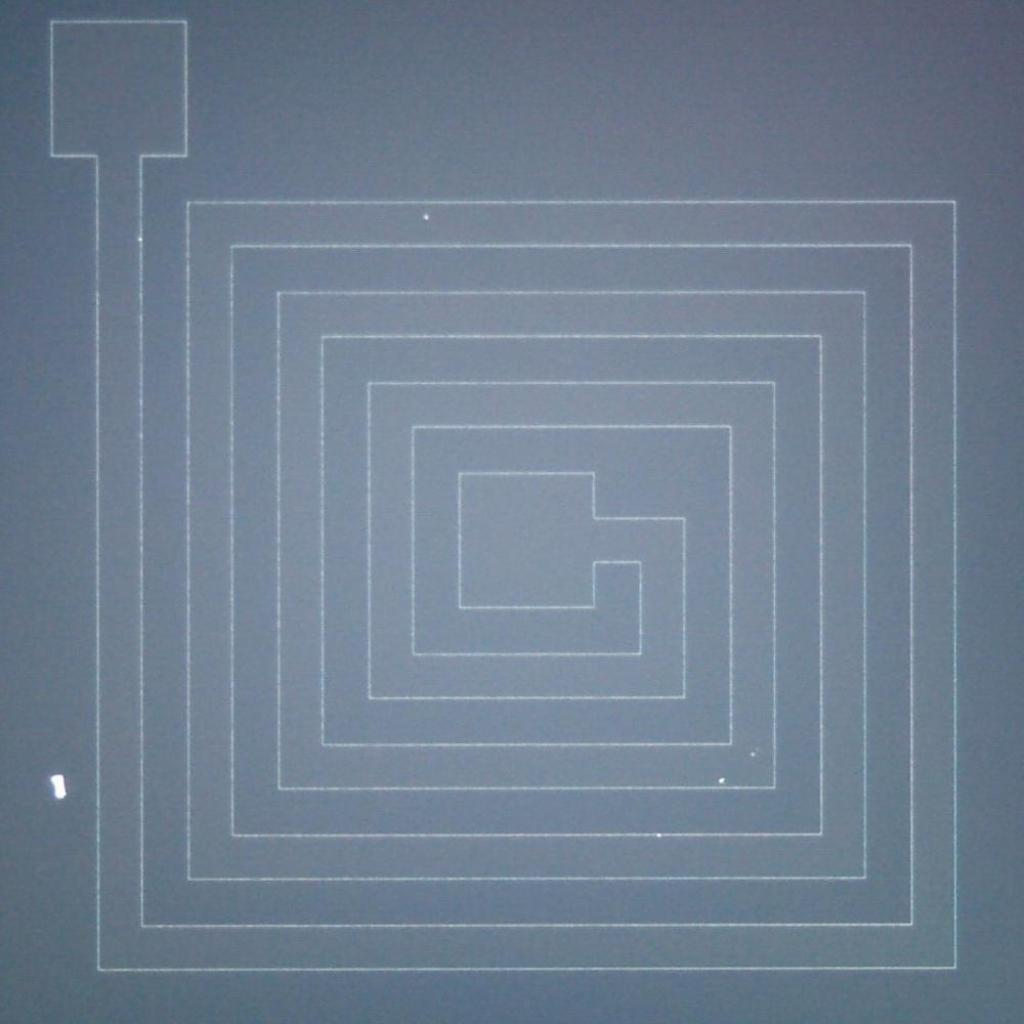Bdot: (46, 774, 71, 800)
dot: (719, 777, 725, 784), (424, 214, 429, 220), (750, 752, 755, 756)
